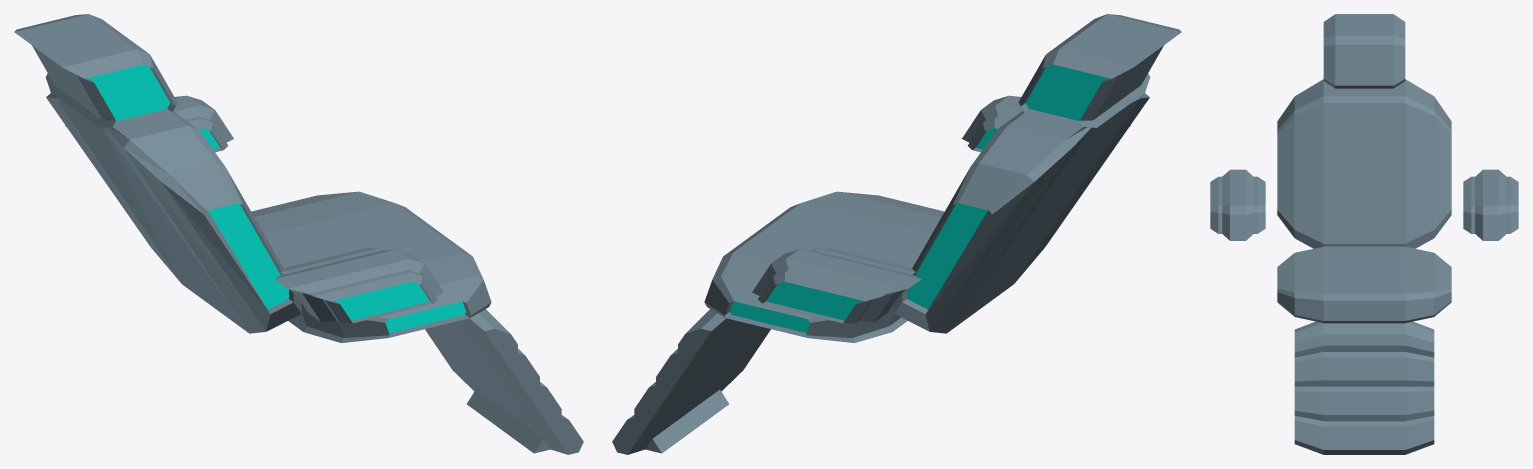
Rendered from chair-01.fbx.
The picture shows the model from 3 angles, left to right: view 1: azimuth 30°, elevation 25°; view 2: azimuth 150°, elevation 25°; view 3: azimuth 270°, elevation 25°; orthographic projection. The views are drawn at different scales.
Parts seen in each view (by area): view 1: chair-01; view 2: chair-01; view 3: chair-01.
Boxes of the visible parts, bbox=[...] form: chair-01: bbox=[14, 14, 583, 454]; chair-01: bbox=[612, 14, 1181, 454]; chair-01: bbox=[1210, 14, 1518, 454].
Bounding box in the file's own units: 59.57 × 56.29 × 53.04.
